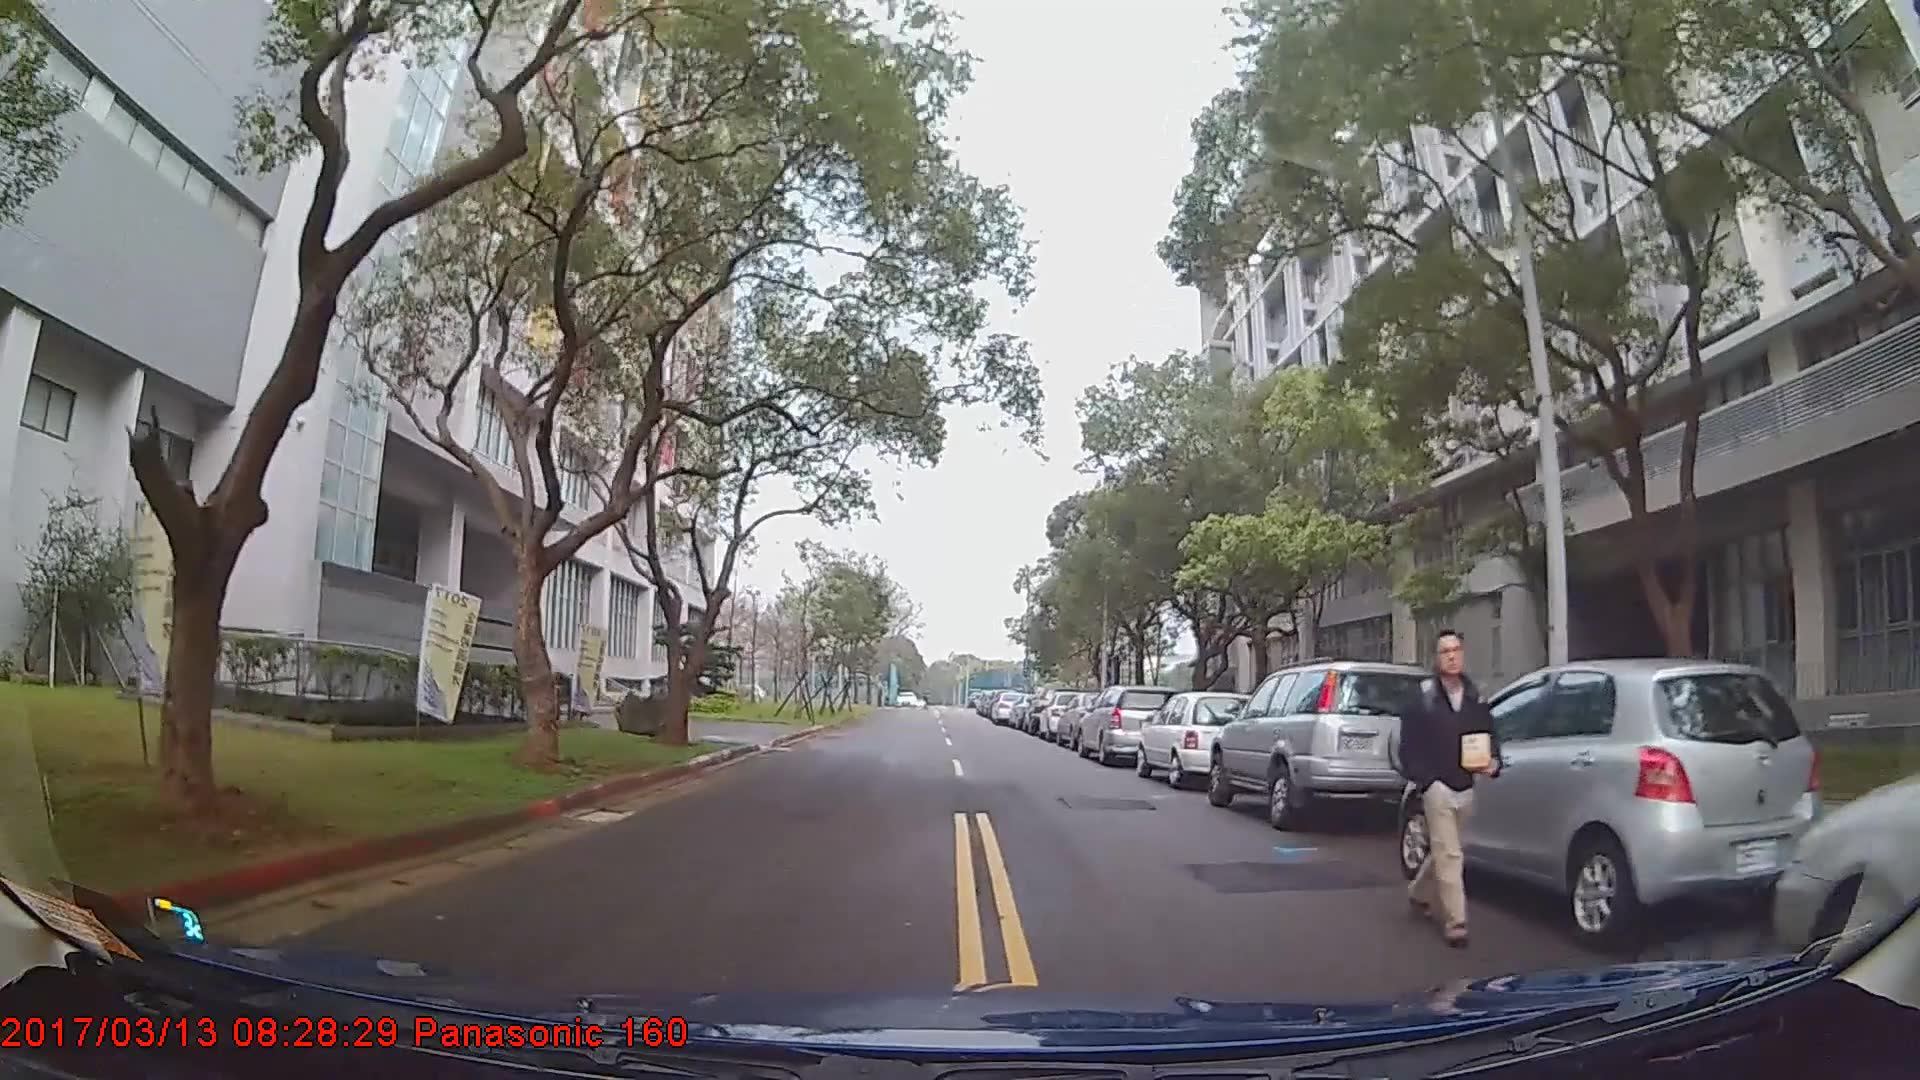pedestrian: (1406, 622, 1520, 942)
vehicle: (1397, 657, 1822, 942), (1207, 657, 1454, 829), (1134, 689, 1264, 789), (1077, 683, 1182, 765), (991, 688, 1030, 726)
